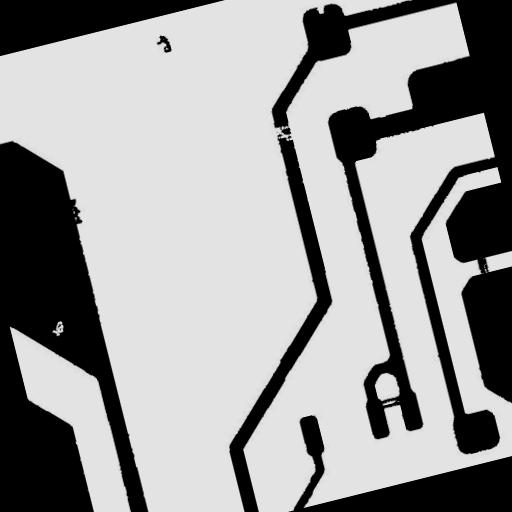copper: (146, 24, 180, 63)
mousebite: (306, 0, 335, 23)
open: (258, 112, 310, 154)
pin-hole: (40, 311, 74, 346)
short: (464, 237, 502, 298), (366, 386, 416, 420)
spur: (58, 189, 92, 234)
